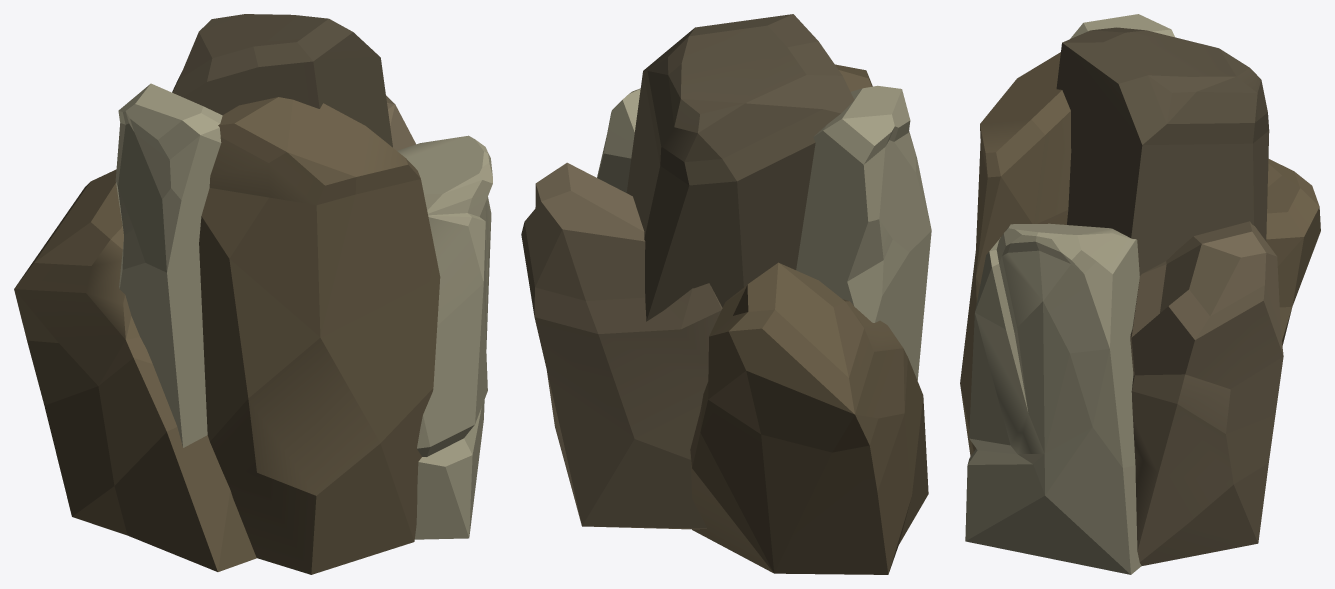
The model's file is Rock_06.fbx.
3 renders of one model, left to right at view 1: azimuth 30°, elevation 25°; view 2: azimuth 150°, elevation 25°; view 3: azimuth 270°, elevation 25°, orthographic. The views are drawn at different scales.
Parts seen in each view (by area): view 1: Rock_06; view 2: Rock_06; view 3: Rock_06.
Part boxes in pixels (x1,y1,x2,y2): Rock_06: (14, 14, 492, 574); Rock_06: (521, 14, 931, 574); Rock_06: (960, 14, 1320, 574).
Size of the model in its own units: 133 by 161 by 116.
